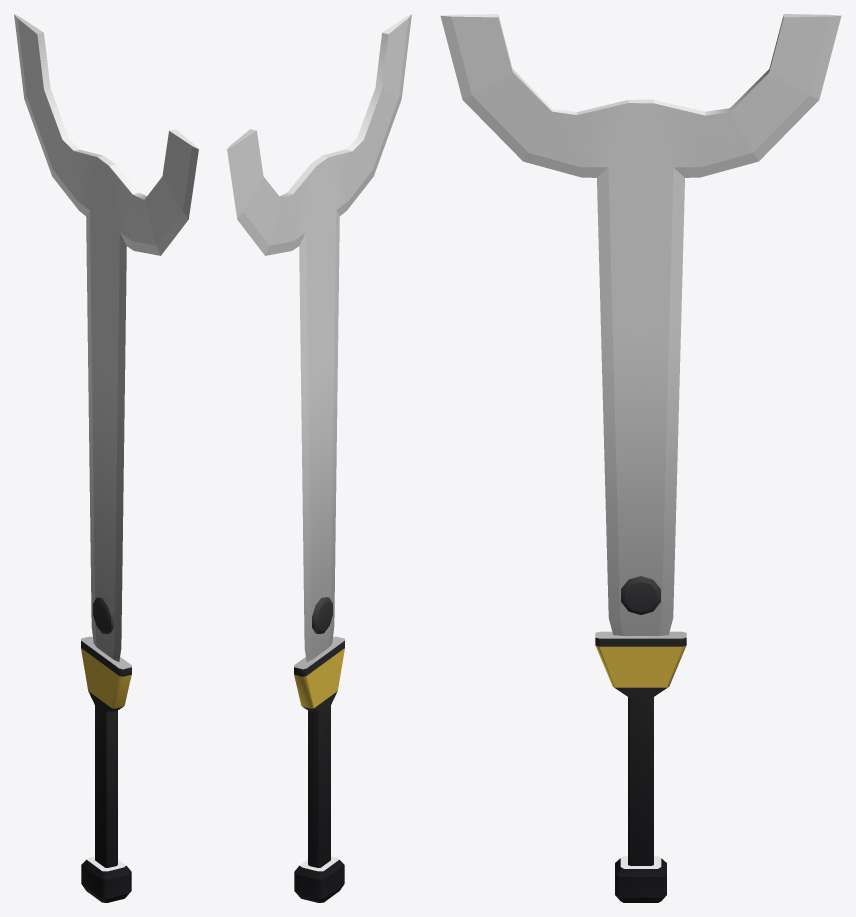
The model's file is Weapon_half_scepter.fbx.
The picture shows the model from 3 angles, left to right: view 1: azimuth 30°, elevation 25°; view 2: azimuth 150°, elevation 25°; view 3: azimuth 270°, elevation 25°; orthographic projection. The views are drawn at different scales.
Parts seen in each view (by area): view 1: W_DG_1; view 2: W_DG_1; view 3: W_DG_1.
Part boxes in pixels (x1,y1,x2,y2): W_DG_1: (14, 14, 198, 902); W_DG_1: (227, 14, 411, 902); W_DG_1: (440, 14, 841, 902).
Bounding box in the file's own units: 4.01 × 102 × 42.06.
